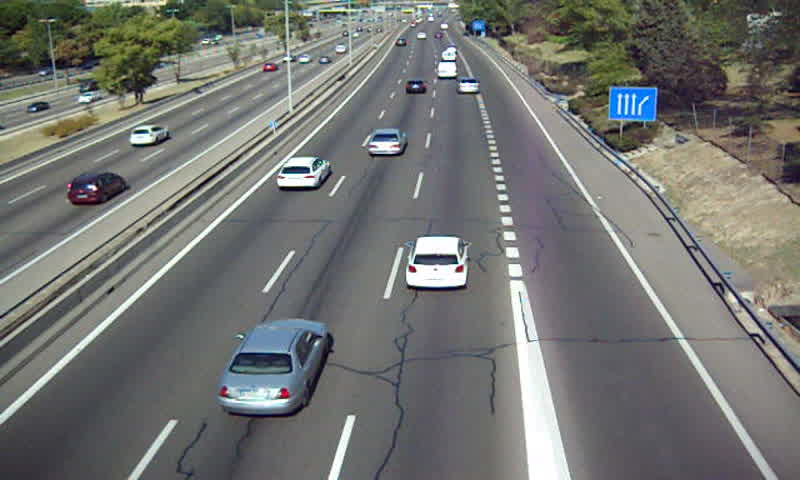car: (218, 320, 329, 417), (406, 236, 469, 290), (277, 157, 329, 189), (368, 128, 407, 157), (457, 77, 482, 96), (404, 79, 428, 95)
van: (436, 62, 458, 79), (443, 49, 457, 61)
